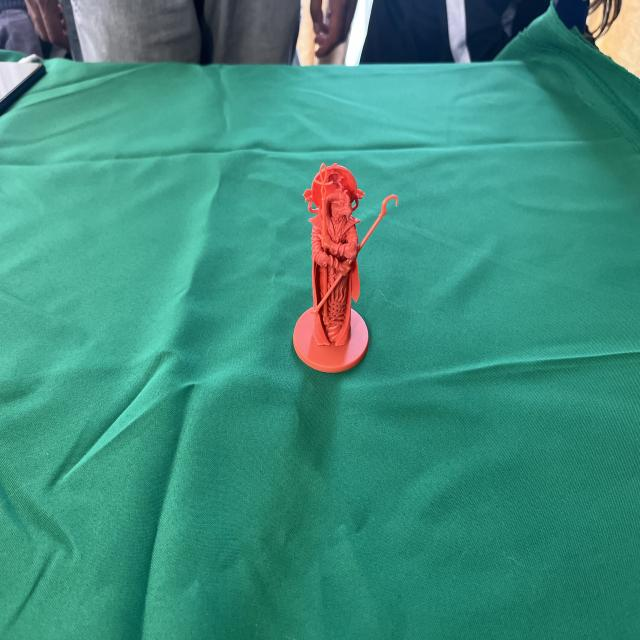amon: (292, 153, 400, 379)
